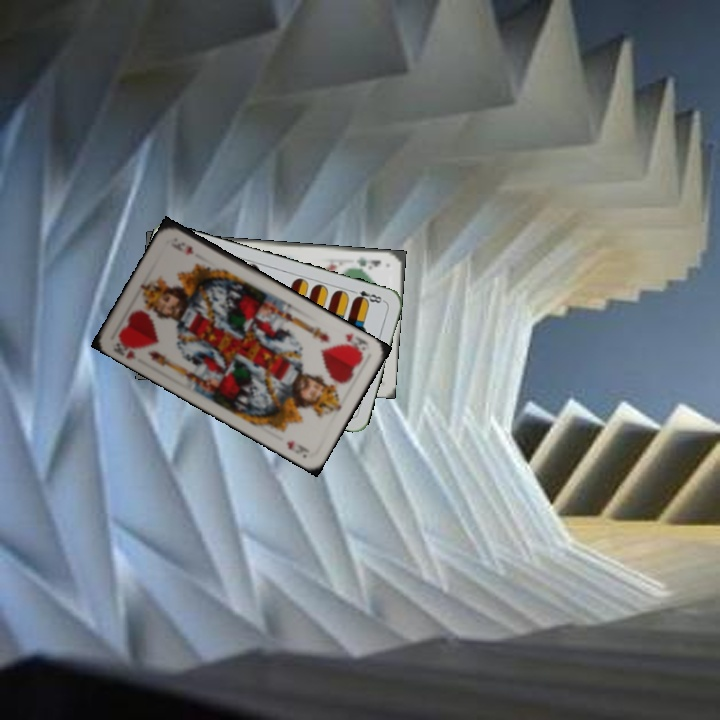E8: (347, 286, 387, 306)
GK: (352, 252, 383, 270)
HK: (109, 333, 143, 362), (340, 329, 371, 357)
